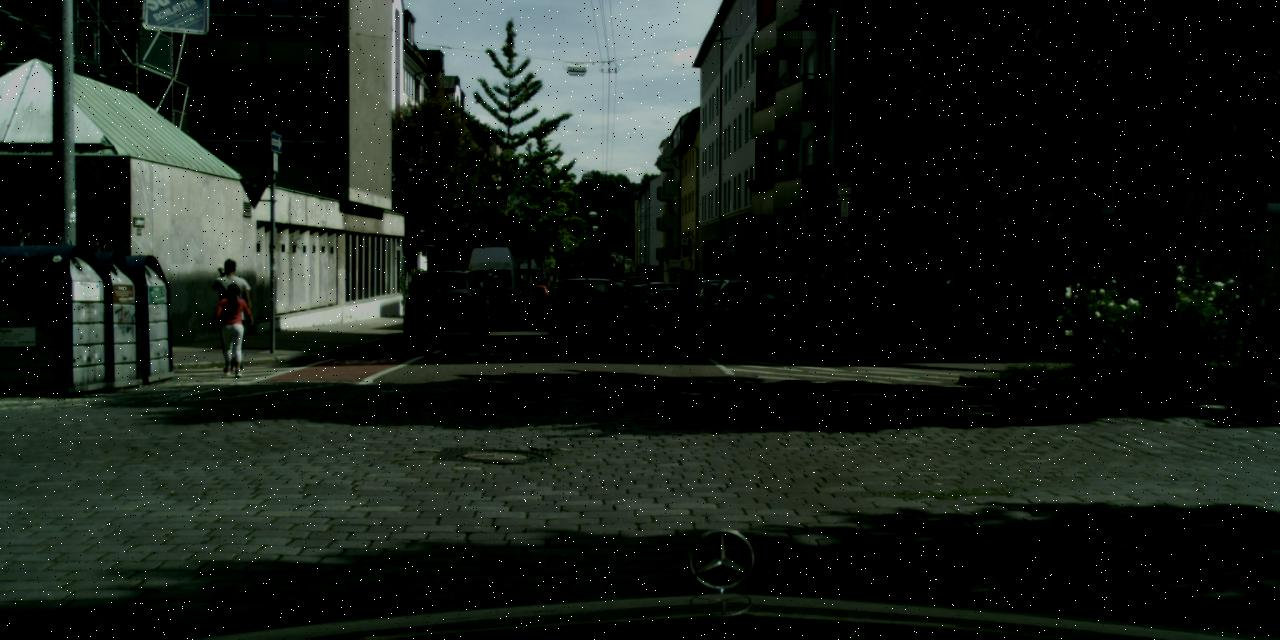ped: (207, 258, 254, 373), (212, 282, 250, 376)
